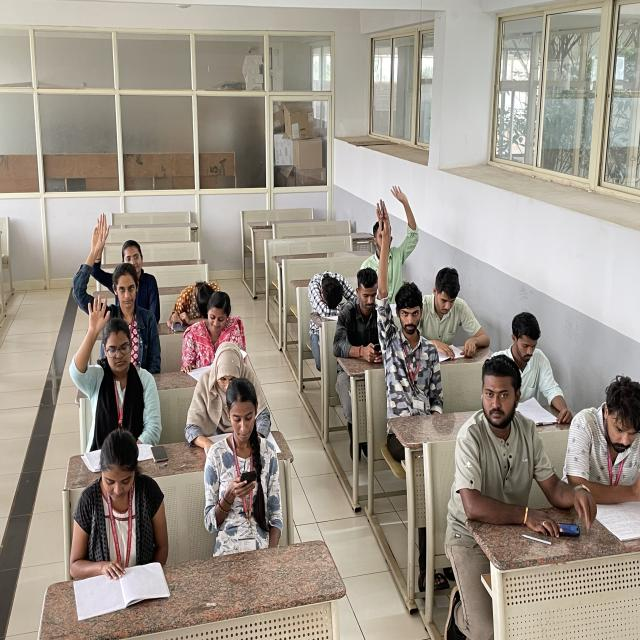Hand Rising: (367, 198, 435, 431), (70, 292, 159, 431), (74, 226, 140, 328), (89, 215, 153, 285), (366, 183, 418, 263)
Reading: (70, 428, 174, 618), (565, 366, 640, 529), (185, 342, 267, 446), (511, 311, 571, 427), (424, 264, 492, 361), (176, 293, 248, 376)
Sleeping: (307, 264, 352, 336), (167, 276, 226, 328)
Using Phone: (458, 355, 584, 542), (204, 380, 288, 570), (338, 263, 388, 371)
